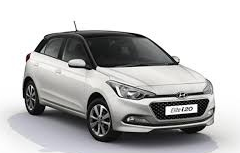car: (21, 29, 217, 143)
